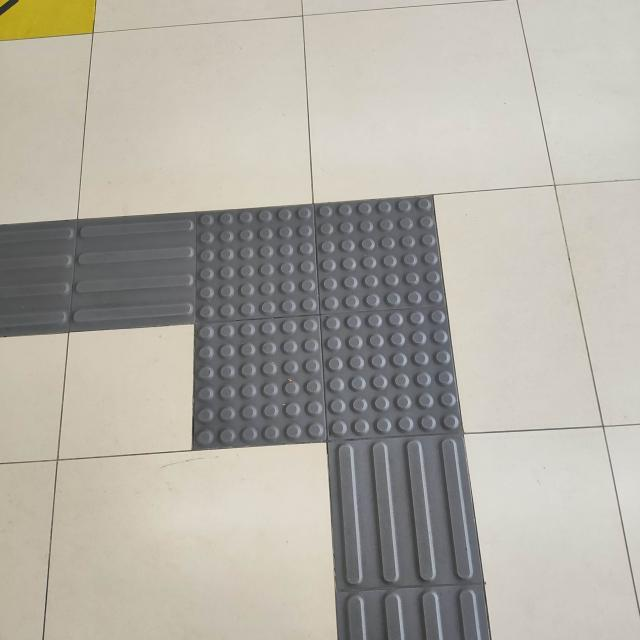kiri: (17, 142, 556, 566)
